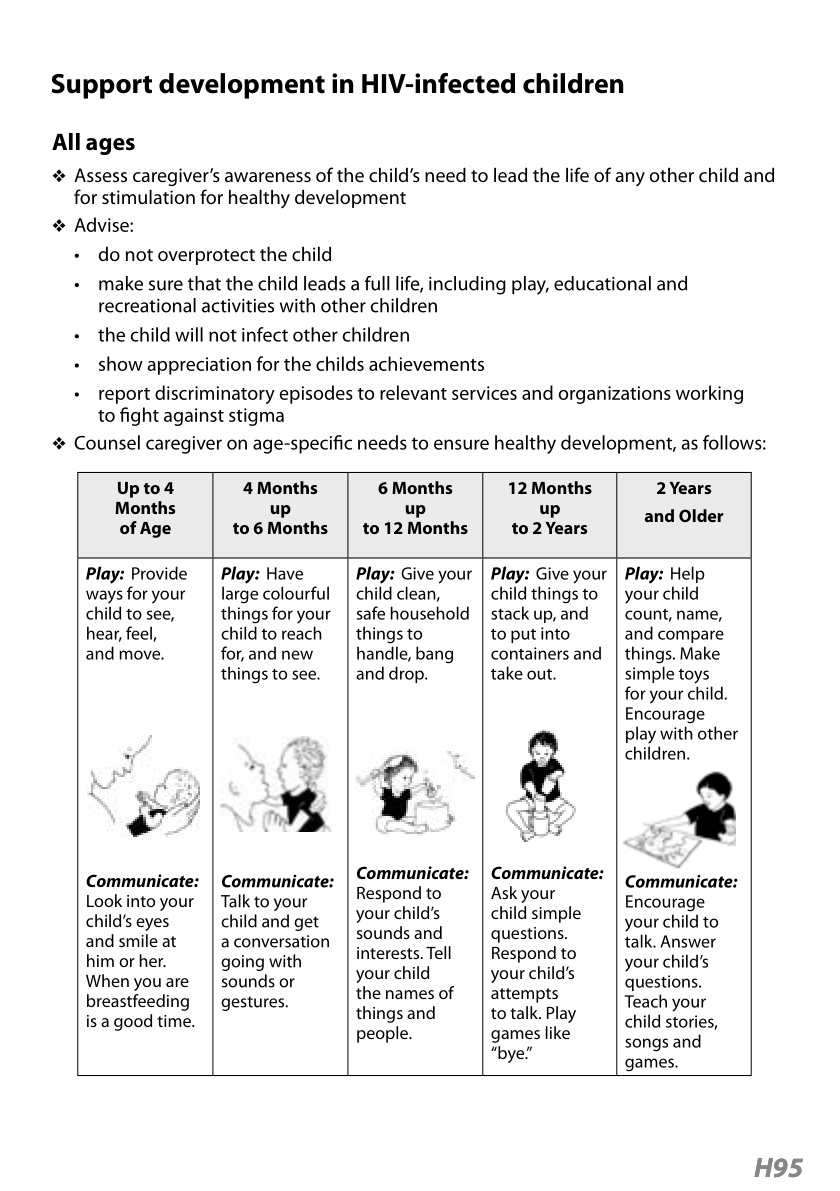full_lined: (75, 470, 753, 1077)
